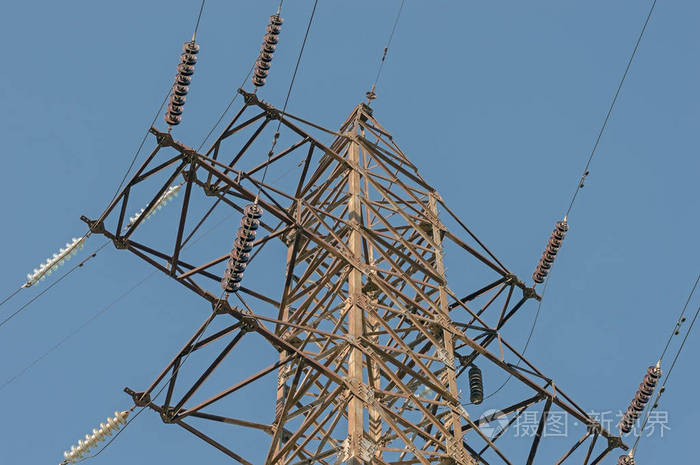insulator: (223, 201, 263, 293), (59, 411, 129, 460), (618, 365, 660, 434), (25, 234, 83, 282), (165, 42, 199, 122), (531, 218, 570, 281), (249, 15, 282, 85), (131, 190, 177, 228), (467, 366, 485, 407)
